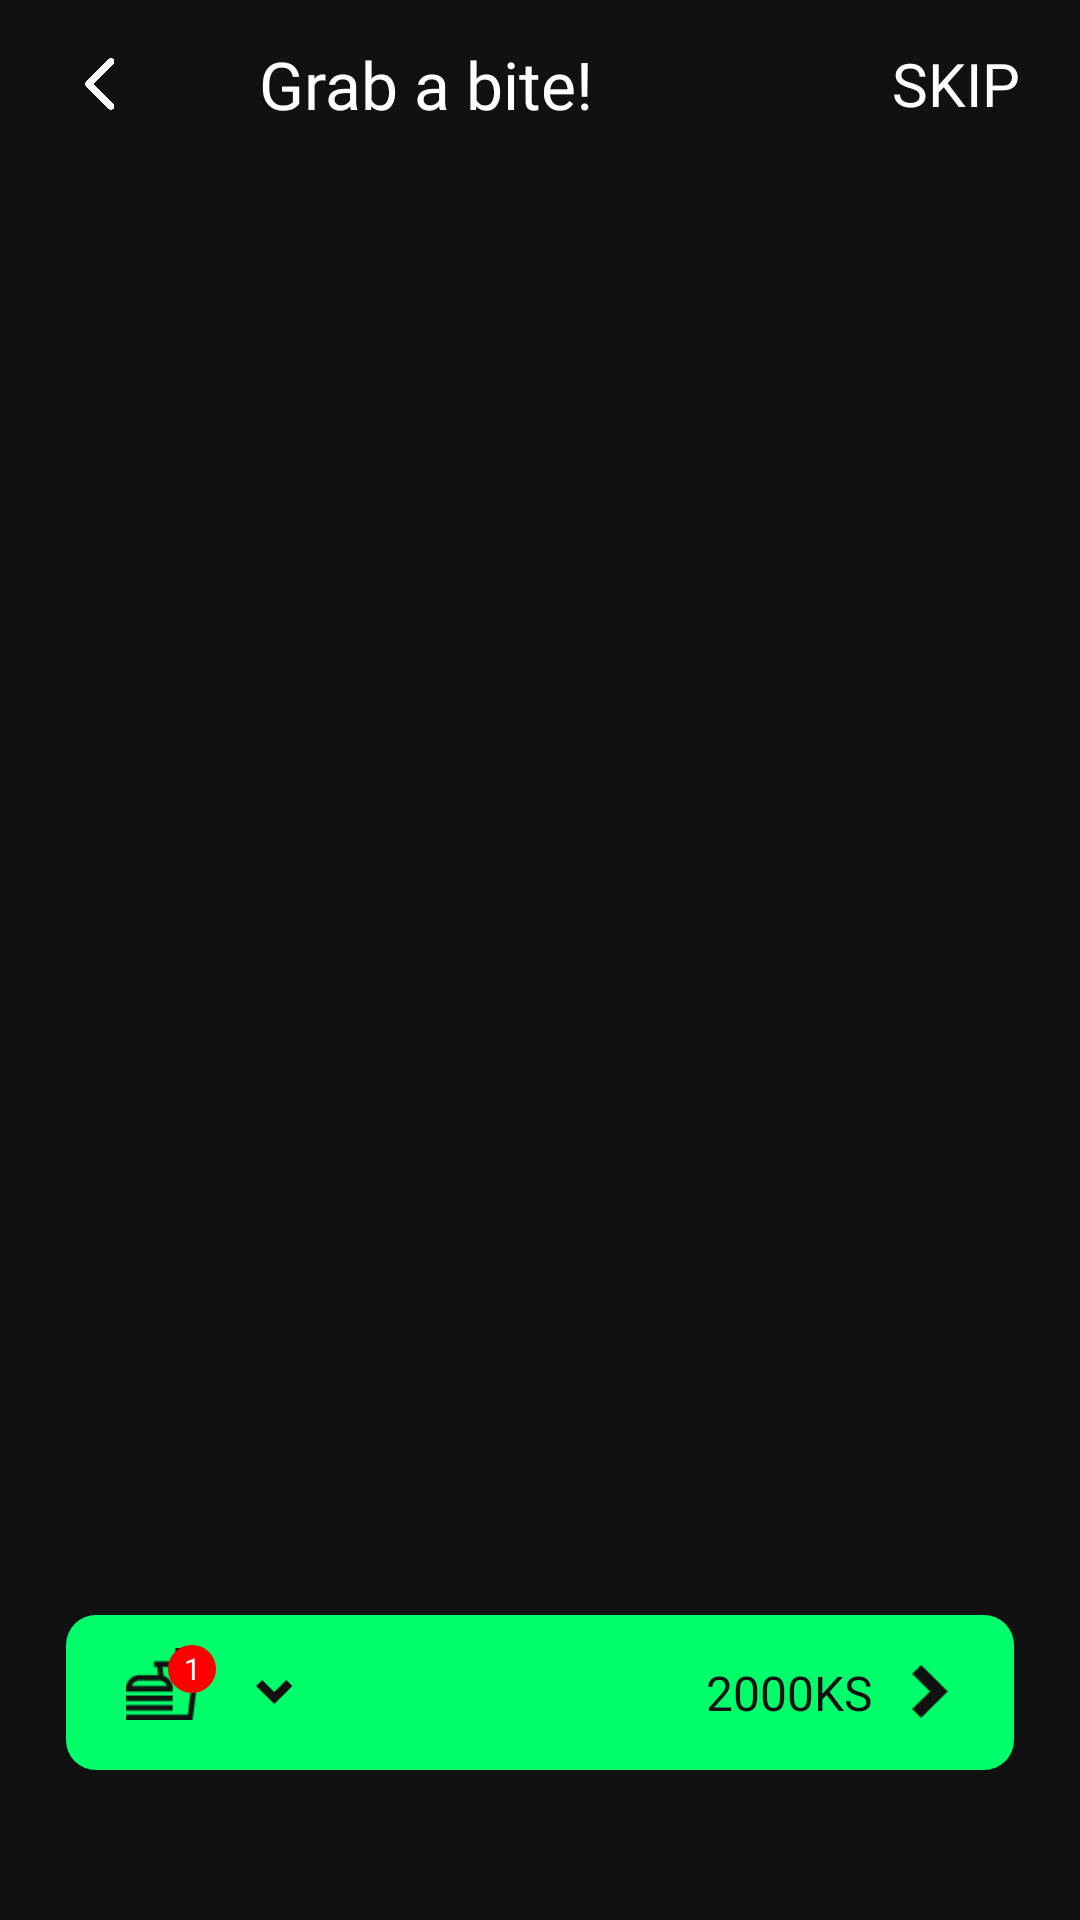

Named icons in this screenshot (1080×1920) and their centers, [x,y]:
back arrow: [99,84]
down arrow: [274,1692]
right arrow: [930,1691]
